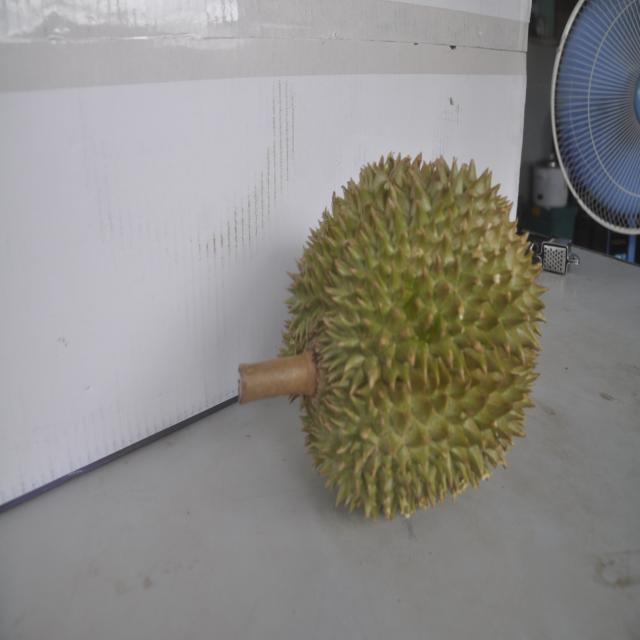mature: (277, 146, 543, 515)
